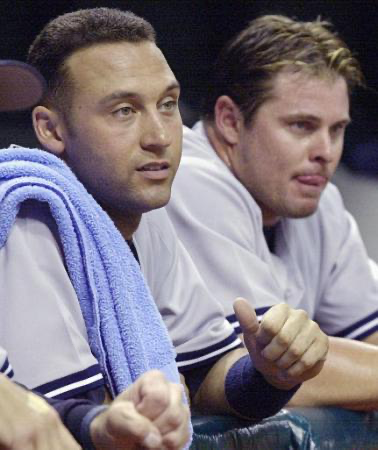Face: (228, 75, 361, 228), (79, 54, 192, 213)
